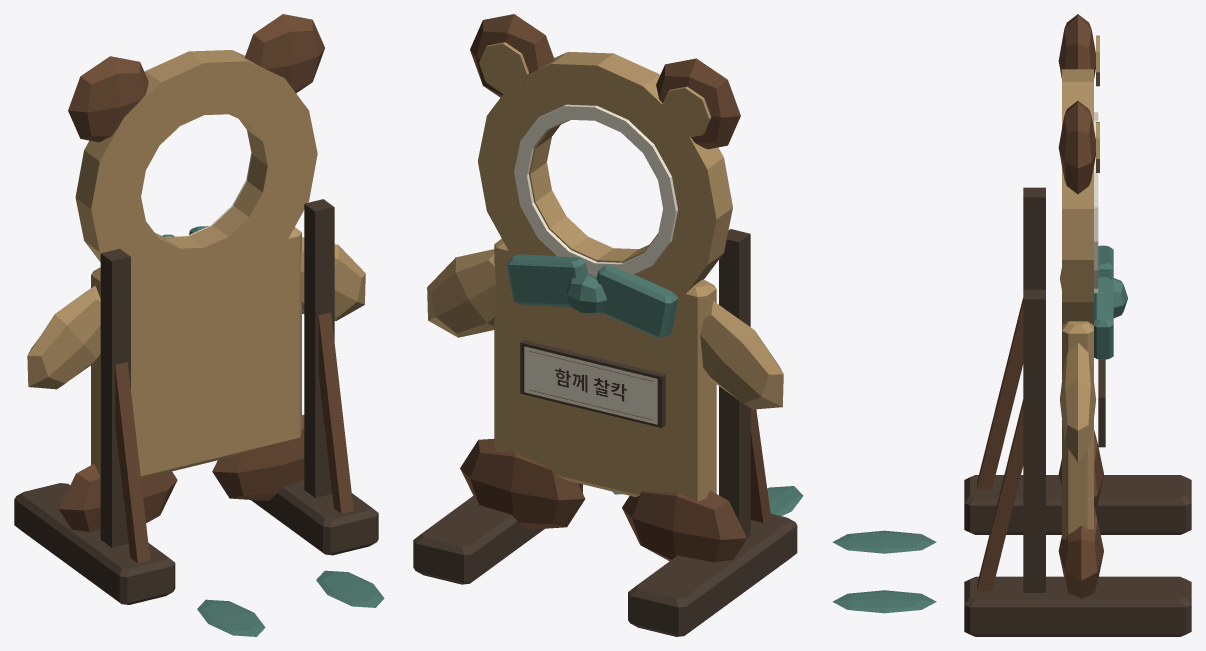
The model's file is F01_Bear_Photo_Stand.fbx.
3 views of the same model, side by side, from view 1: azimuth 30°, elevation 25°; view 2: azimuth 150°, elevation 25°; view 3: azimuth 270°, elevation 25° (orthographic). The views are drawn at different scales.
Parts seen in each view (by area): view 1: Bear_Cutout, Photo_Stand, Photo_Markers; view 2: Bear_Cutout, Photo_Stand, Bear_Scarf, Front_Label, Photo_Markers; view 3: Photo_Stand, Bear_Cutout, Photo_Markers, Bear_Scarf, Front_Label.
Part boxes in pixels (x1,y1,x2,y2): Bear_Cutout: (27, 14, 365, 531); Photo_Stand: (14, 199, 378, 604); Photo_Markers: (197, 570, 384, 636); Bear_Cutout: (427, 14, 783, 562); Photo_Stand: (413, 229, 797, 636); Bear_Scarf: (506, 254, 678, 337); Front_Label: (520, 340, 665, 427); Photo_Markers: (612, 486, 803, 515); Photo_Stand: (964, 187, 1191, 636); Bear_Cutout: (1058, 14, 1103, 598); Photo_Markers: (832, 530, 936, 613); Bear_Scarf: (1094, 245, 1127, 359); Front_Label: (1098, 359, 1105, 447).
Bounding box in the file's own units: 1.76 × 2.5 × 1.58.
Materials: 6 (1 with a texture image).
